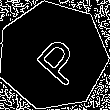P_NW: (21, 25, 84, 87)
